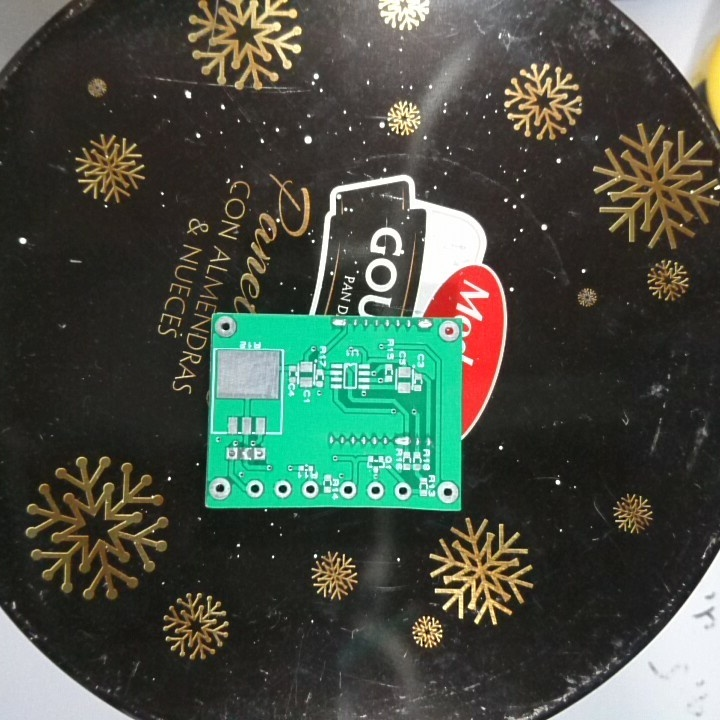F: (436, 318, 464, 347), (213, 312, 240, 341), (208, 475, 233, 500), (435, 479, 458, 505), (244, 478, 267, 500), (393, 479, 415, 501), (271, 478, 293, 500), (364, 480, 385, 502), (300, 479, 321, 501), (337, 481, 356, 501), (253, 446, 270, 466), (224, 444, 240, 464)
P: (392, 430, 412, 451), (329, 314, 350, 330), (416, 317, 434, 335)
